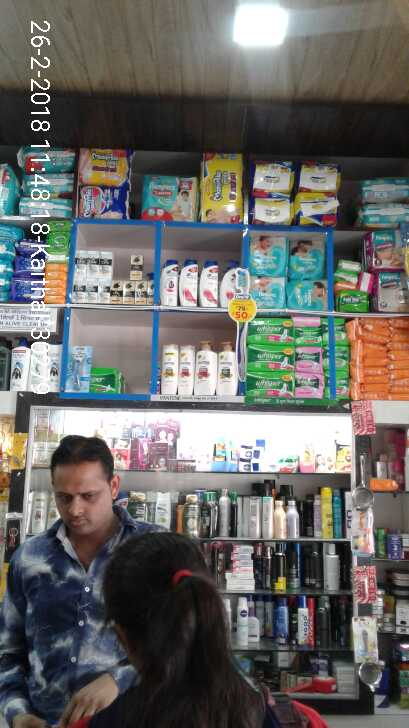venus: (64, 346, 91, 391)
